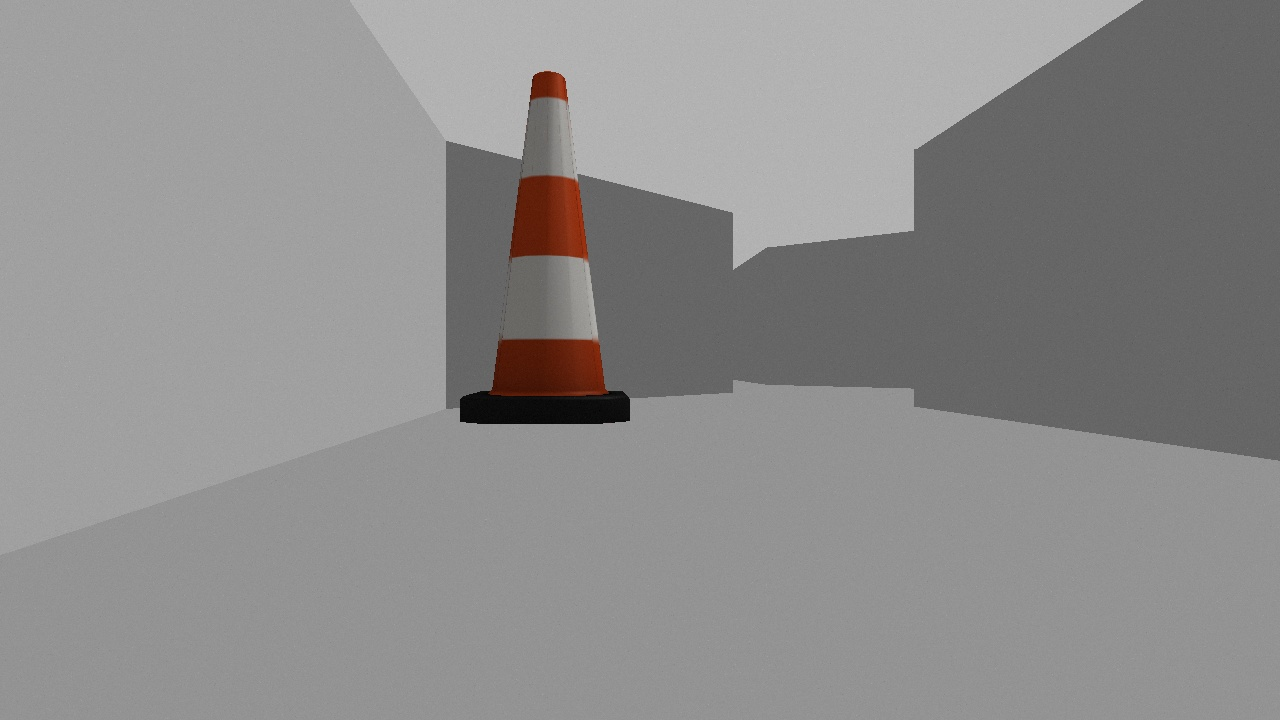barricade: (457, 71, 629, 426)
